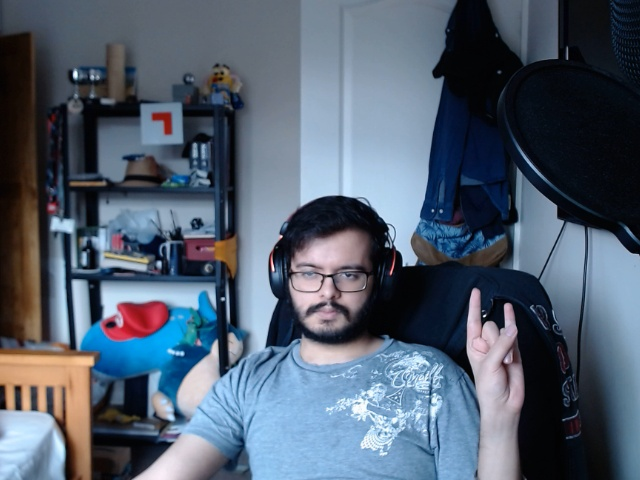Rock on: (462, 280, 528, 420)
